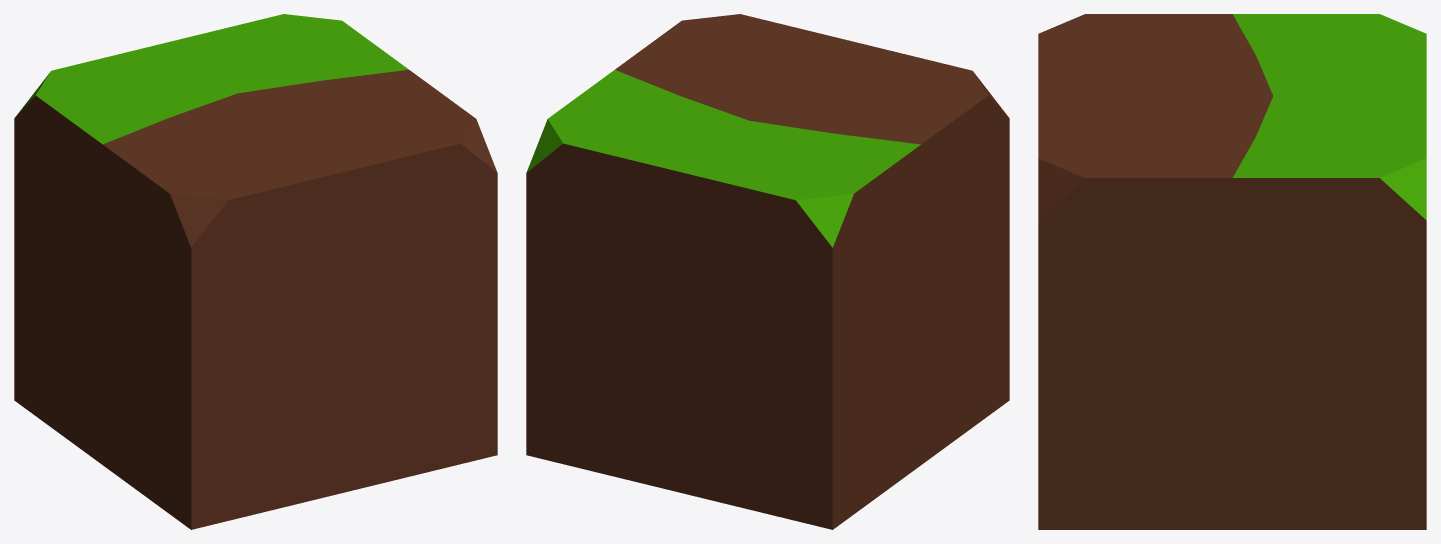
Rendered from TIle_Grass_to_Dirt.fbx.
3 renders of one model, left to right at view 1: azimuth 30°, elevation 25°; view 2: azimuth 150°, elevation 25°; view 3: azimuth 270°, elevation 25°, orthographic. The views are drawn at different scales.
Visible parts, largest first — view 1: TIle_Grass_to_Dirt; view 2: TIle_Grass_to_Dirt; view 3: TIle_Grass_to_Dirt.
Part boxes in pixels (x1,y1,x2,y2): TIle_Grass_to_Dirt: [14, 14, 497, 529]; TIle_Grass_to_Dirt: [526, 14, 1009, 529]; TIle_Grass_to_Dirt: [1038, 14, 1426, 529].
Bounding box in the file's own units: 5 × 5 × 5.
